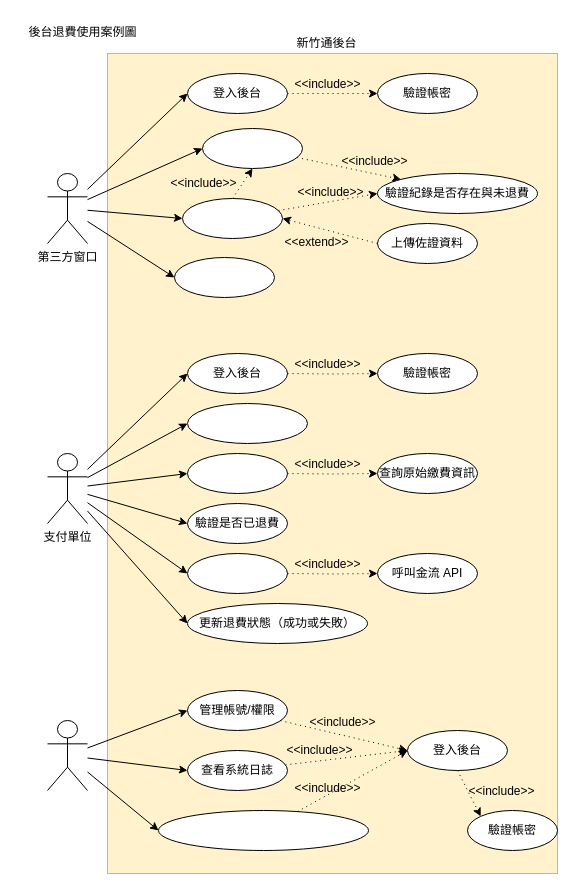
Image size: 575x891. Some labels were removed from this diagram. Here are the shapes that lost their labels. From the top down, the centre of each, then its label:
the point at 252,148: 查詢繳費紀錄
the point at 232,218: 建立退費申請
the point at 224,277: 取消退費
the point at 247,423: 接收退費申請清單
the point at 237,473: 驗證交易紀錄
the point at 237,573: 執行退費動作
the point at 67,755: 系統管理員
the point at 263,830: 調整參數設定（例如可退天數限制）
